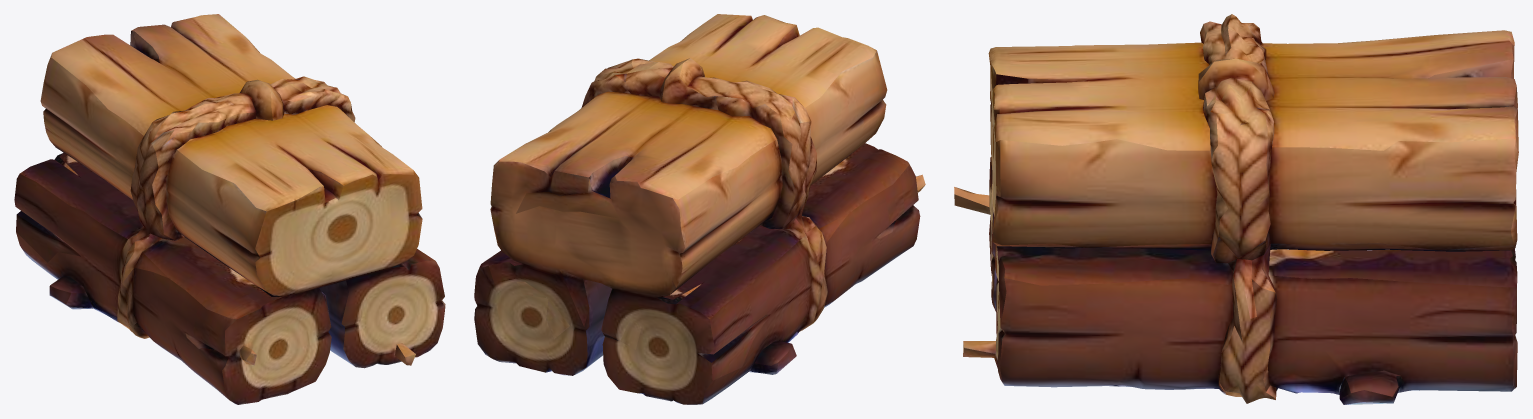
File: lumber.glb
The picture shows the model from 3 angles, left to right: view 1: azimuth 30°, elevation 25°; view 2: azimuth 150°, elevation 25°; view 3: azimuth 270°, elevation 25°; orthographic projection. The views are drawn at different scales.
Parts seen in each view (by area): view 1: lumber; view 2: lumber; view 3: lumber.
Boxes of the visible parts, bbox=[...] form: lumber: bbox=[14, 14, 445, 404]; lumber: bbox=[474, 14, 925, 404]; lumber: bbox=[954, 14, 1518, 404].
Size of the model in its own units: 0.6817 by 0.5809 by 1.
1 material, 1 textured.
